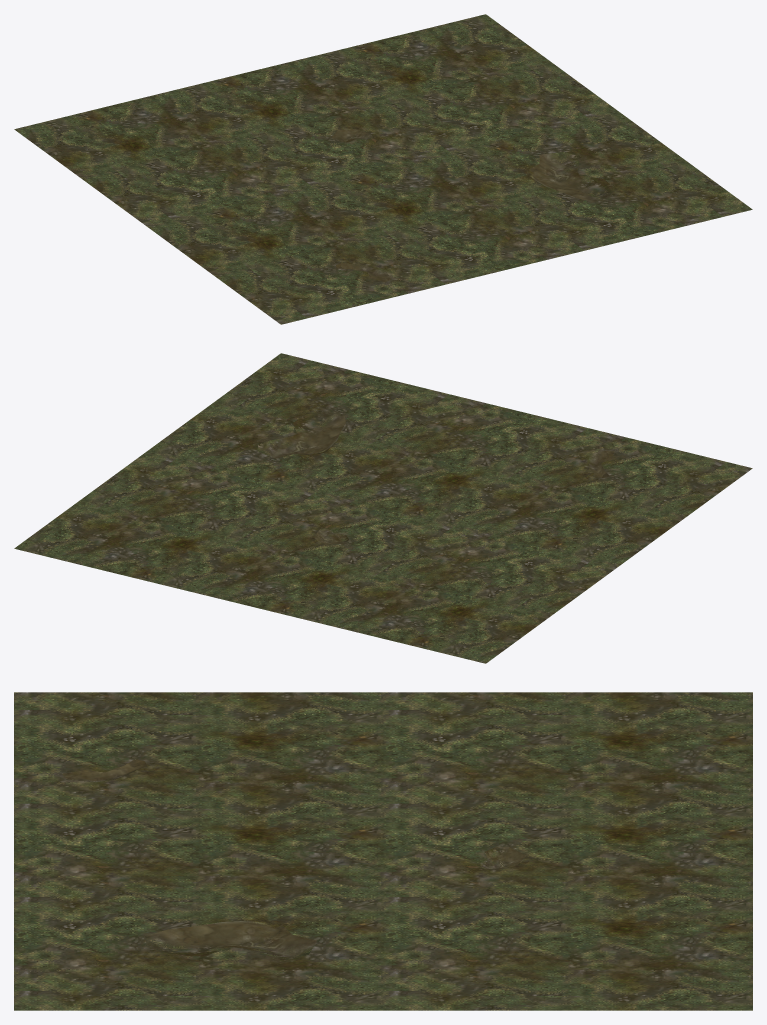
The model's file is F_dimian001.fbx.
3 views of the same model, one above another, from view 1: azimuth 30°, elevation 25°; view 2: azimuth 150°, elevation 25°; view 3: azimuth 270°, elevation 25° (orthographic). The views are drawn at different scales.
Visible parts, largest first — view 1: F_dimian001; view 2: F_dimian001; view 3: F_dimian001.
Boxes of the visible parts, box(x1,y1,x2,y2) form: F_dimian001: box(14, 14, 752, 324); F_dimian001: box(14, 353, 752, 663); F_dimian001: box(14, 692, 752, 1010).
Bounding box in the file's own units: 2000 × 23.56 × 1961.
